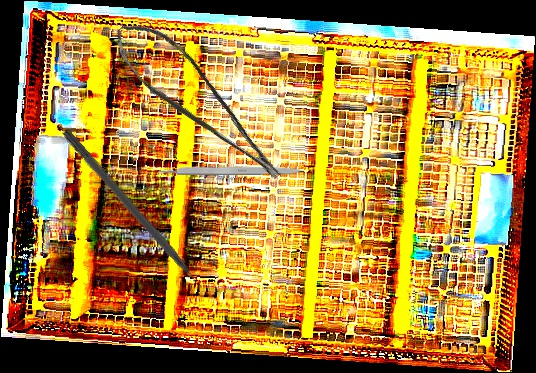Micro Scissor: (103, 4, 288, 207)
Pusher: (59, 127, 216, 305)
Scalpel Handle: (158, 165, 303, 175)
